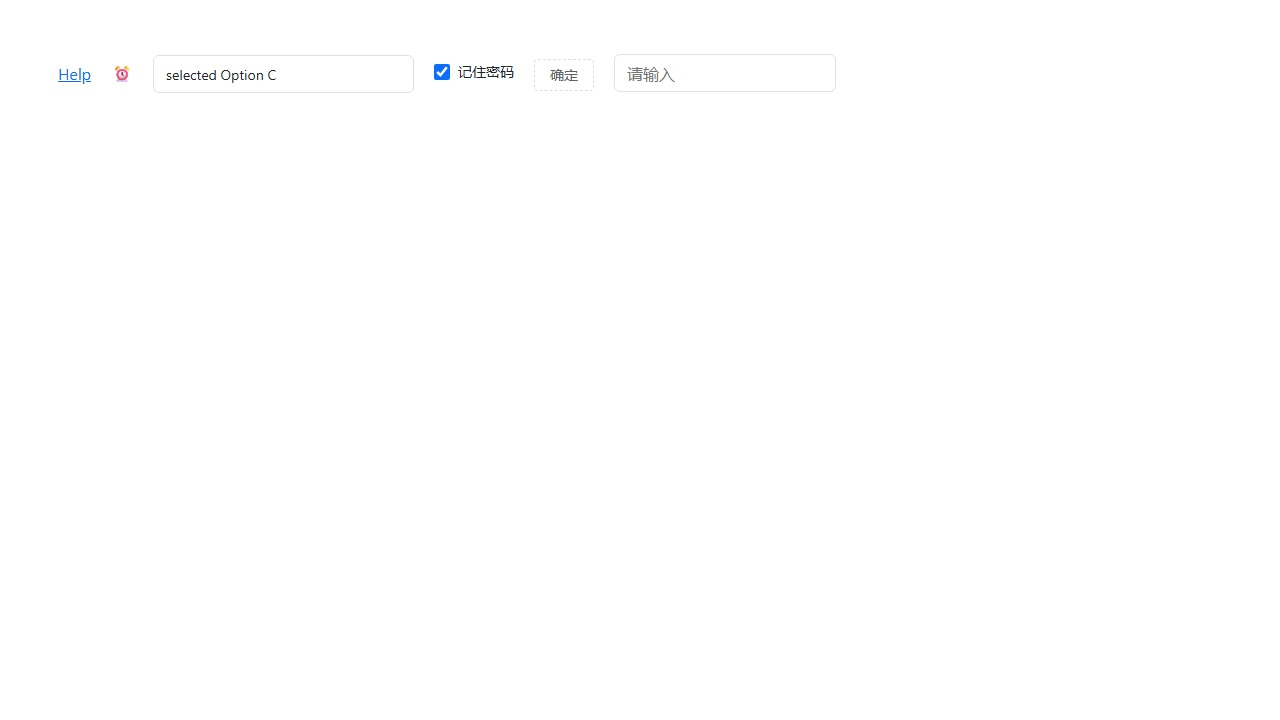button: (534, 58, 594, 90)
checkbox: (434, 64, 450, 80)
icon: (458, 62, 514, 81), (111, 65, 133, 81)
input: (614, 54, 836, 92)
link: (58, 62, 91, 84)
radio: (434, 62, 514, 81)
select: (153, 55, 414, 93)
